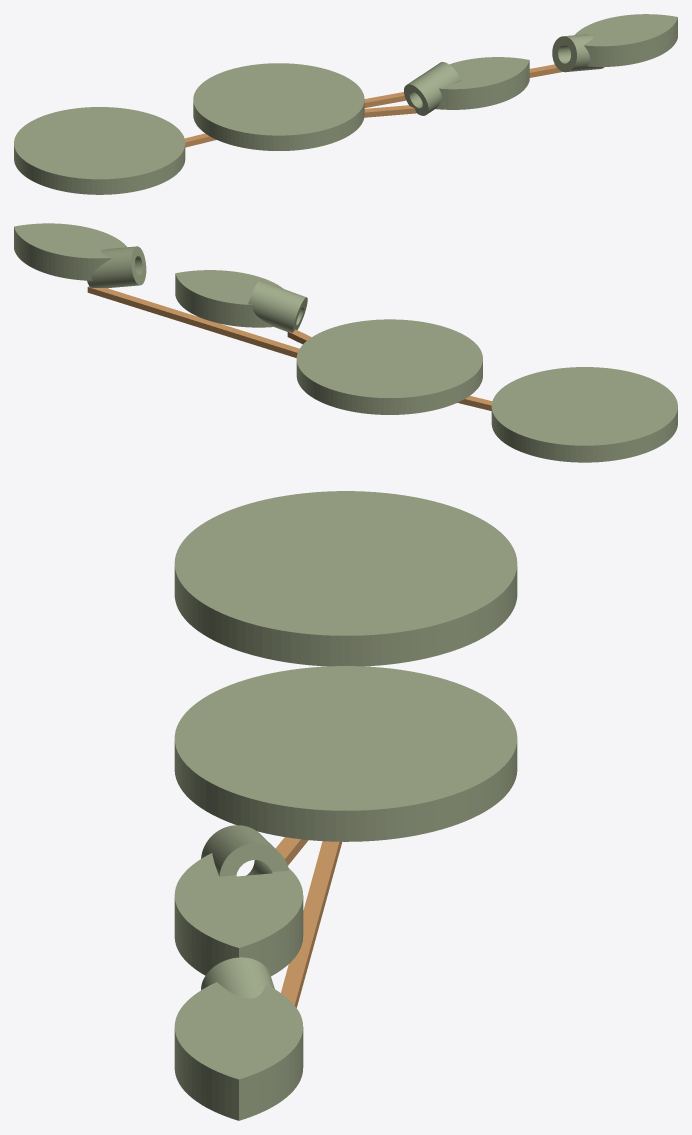
File: C_olive_CONNECTED_4parts.glb
3 renders of one model, top to bottom at view 1: azimuth 30°, elevation 25°; view 2: azimuth 150°, elevation 25°; view 3: azimuth 270°, elevation 25°, orthographic. The views are drawn at different scales.
Parts seen in each view (by area): view 1: 00_head_ears_01, 01_head_ears_02, 03_antenna_tips_02, 02_antenna_tips_01, TAB_02, TAB_01; view 2: 01_head_ears_02, 00_head_ears_01, 03_antenna_tips_02, 02_antenna_tips_01, TAB_02; view 3: 00_head_ears_01, 01_head_ears_02, 03_antenna_tips_02, 02_antenna_tips_01, TAB_02.
Part boxes in pixels (box(x1,y1,x2,y2)): 00_head_ears_01: box(14, 107, 185, 194); 01_head_ears_02: box(193, 63, 364, 150); 03_antenna_tips_02: box(552, 14, 677, 72); 02_antenna_tips_01: box(404, 57, 529, 115); TAB_02: box(364, 64, 562, 107); TAB_01: box(364, 105, 415, 117); 01_head_ears_02: box(296, 319, 482, 414); 00_head_ears_01: box(491, 367, 677, 462); 03_antenna_tips_02: box(14, 223, 146, 288); 02_antenna_tips_01: box(175, 270, 307, 332); TAB_02: box(87, 286, 299, 357); 00_head_ears_01: box(174, 491, 517, 666); 01_head_ears_02: box(174, 666, 517, 841); 03_antenna_tips_02: box(174, 957, 303, 1120); 02_antenna_tips_01: box(174, 825, 303, 976); TAB_02: box(281, 841, 342, 1007).
Size of the model in its own units: 0.1012 by 0.0064 by 0.024.
